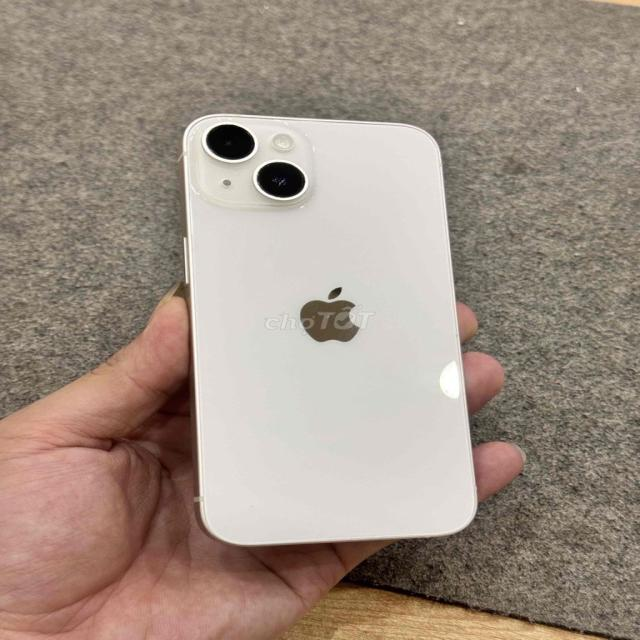gen_14: (171, 111, 484, 545)
